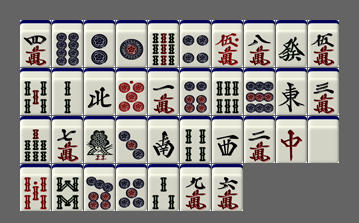0m: (212, 20, 243, 67)
0p: (116, 68, 147, 115)
0s: (20, 164, 51, 211)
1m: (148, 68, 179, 115)
1p: (116, 20, 147, 67)
1s: (84, 116, 115, 163)
1z: (276, 68, 307, 115)
2m: (244, 116, 275, 163)
2p: (84, 20, 115, 67)
2s: (52, 68, 83, 115)
2z: (148, 116, 179, 163)
3m: (308, 68, 339, 115)
3p: (116, 116, 147, 163)
3s: (148, 164, 179, 211)
3z: (212, 116, 243, 163)
4m: (20, 20, 51, 67)
4p: (180, 20, 211, 67)
4s: (180, 116, 211, 163)
4z: (84, 68, 115, 115)
5m: (308, 20, 339, 67)
5p: (116, 164, 147, 211)
5s: (20, 68, 51, 115)
5z: (308, 116, 339, 163)
6m: (212, 164, 243, 211)
6p: (180, 68, 211, 115)
6s: (212, 68, 243, 115)
6z: (276, 20, 307, 67)
7m: (52, 116, 83, 163)
7p: (84, 164, 115, 211)
7s: (20, 116, 51, 163)
7z: (276, 116, 307, 163)
8m: (244, 20, 275, 67)
8p: (52, 20, 83, 67)
8s: (52, 164, 83, 211)
9m: (180, 164, 211, 211)
9p: (244, 68, 275, 115)
9s: (148, 20, 179, 67)
